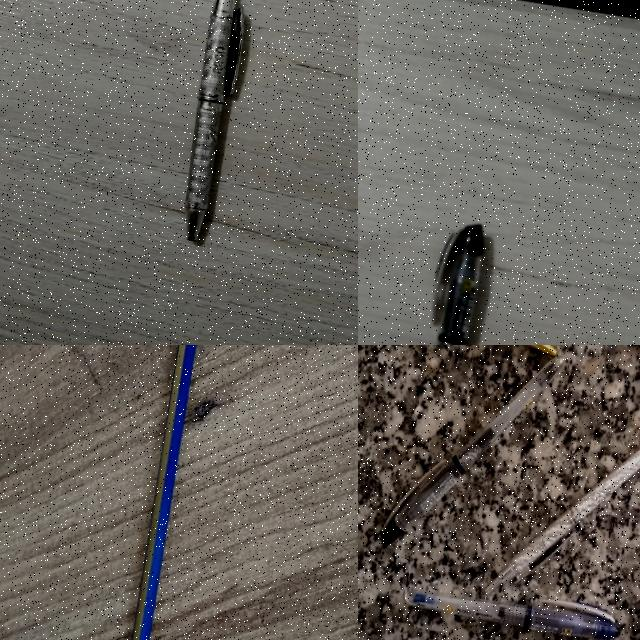pen: (383, 345, 565, 566), (400, 575, 621, 640), (432, 225, 483, 345)
pencil: (132, 345, 196, 639), (547, 345, 640, 512), (527, 518, 640, 640)
signature pen: (484, 450, 640, 594), (186, 0, 243, 240)
